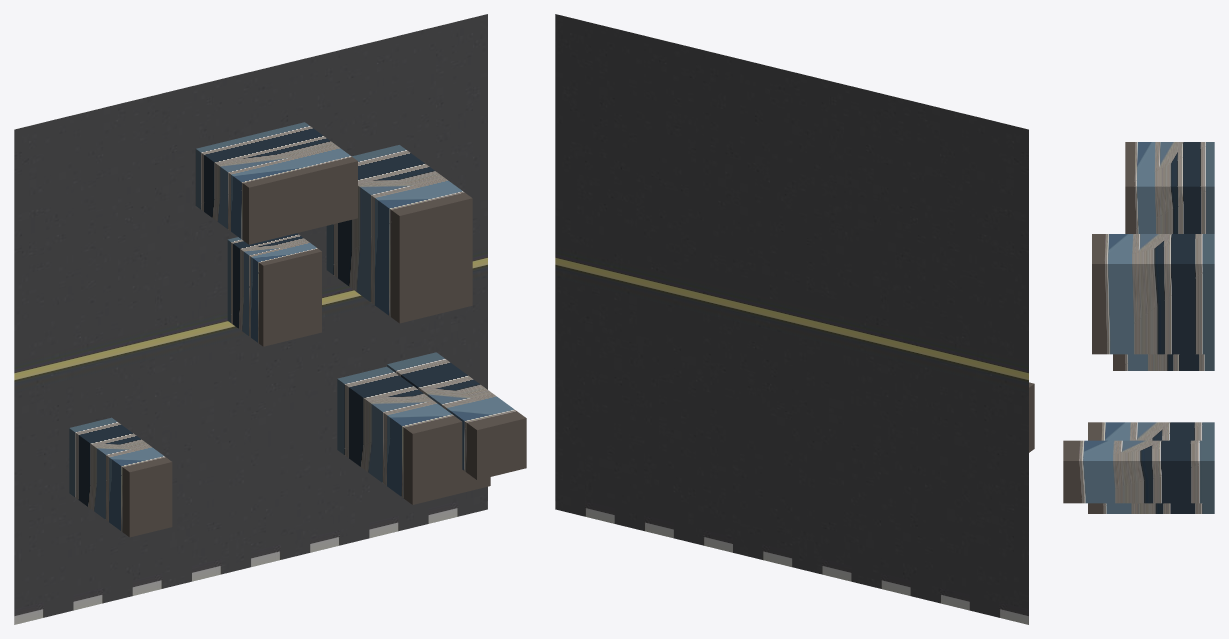
3 views of the same model, side by side, from view 1: azimuth 30°, elevation 25°; view 2: azimuth 150°, elevation 25°; view 3: azimuth 270°, elevation 25° (orthographic). The views are drawn at different scales.
Bounding box in the file's own units: 119 × 119 × 39.31.
2 materials, 2 textured.
